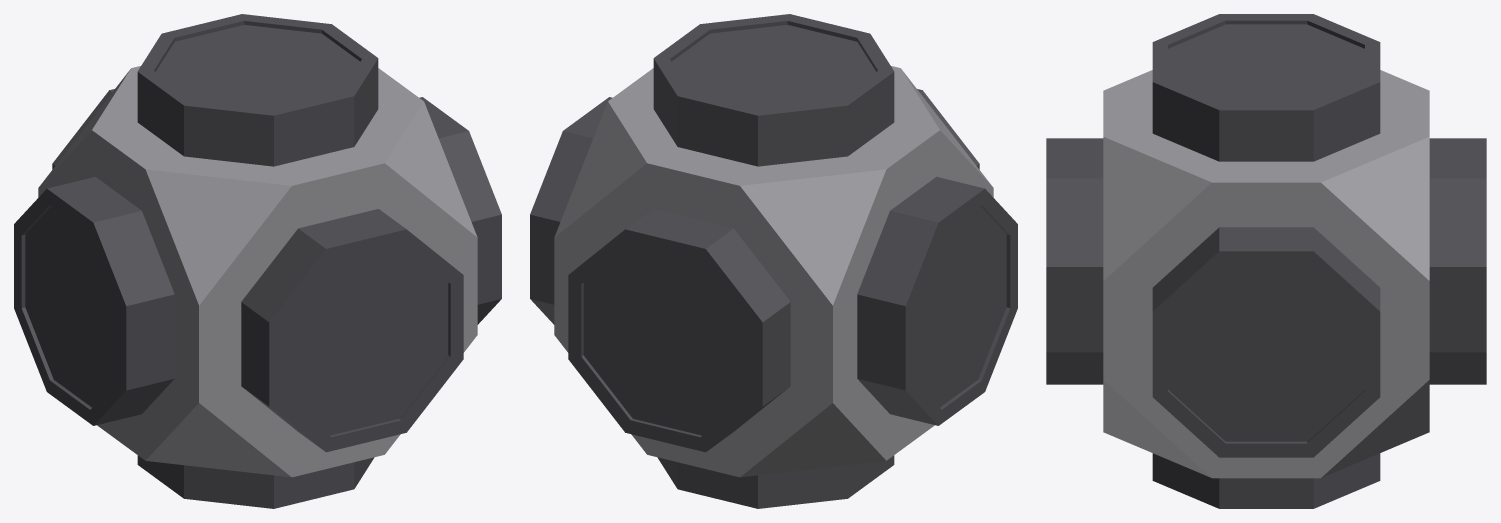
The model's file is model_reactor_small.gltf.
3 views of the same model, side by side, from view 1: azimuth 30°, elevation 25°; view 2: azimuth 150°, elevation 25°; view 3: azimuth 270°, elevation 25° (orthographic).
Visible parts, largest first — view 1: model_reactor_small; view 2: model_reactor_small; view 3: model_reactor_small.
Boxes of the visible parts, left/top/right/bottom form: model_reactor_small: left=14, top=14, right=501, bottom=508; model_reactor_small: left=530, top=14, right=1017, bottom=508; model_reactor_small: left=1046, top=14, right=1486, bottom=508.
Size of the model in its own units: 1 by 1 by 1.
Materials: 1 (1 with a texture image).
